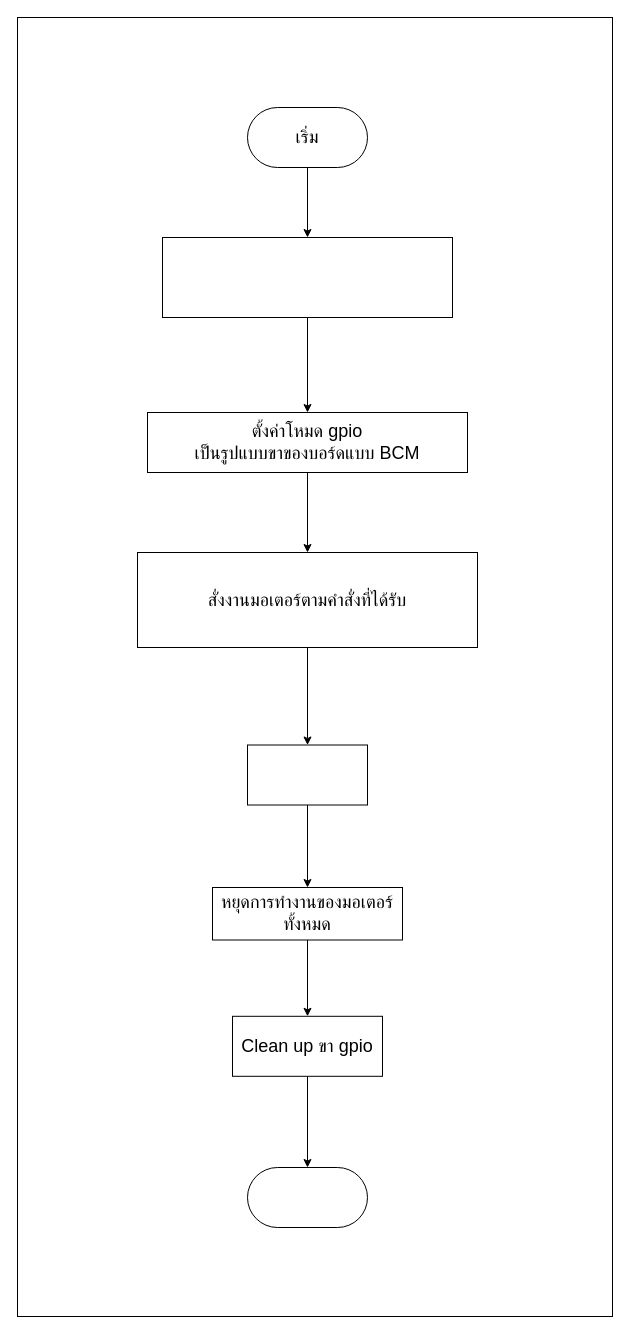
Some shapes in this 630 by 1334 pixel diagram are drawn without their labels. The shapes that lost their labels are listed below. From the top down, each one's centre as x and y in pixels, then its label:
At (307,277): "ตั้งค่าเริ่มต้นให้โปรแกรม [ขา gpio,Dirty Circle,frequency]".
At (307,774): "ออกจากโปรแกรม".
At (307,1197): "จบโปรแกรม".
